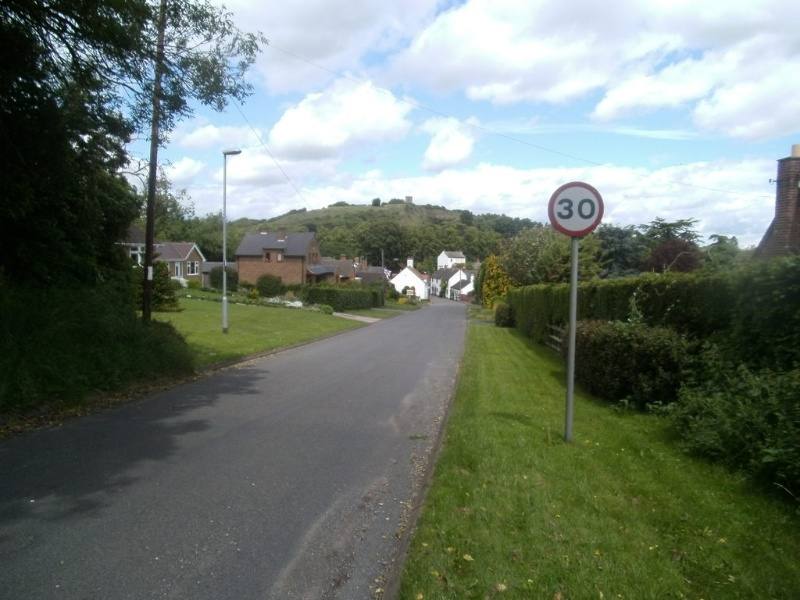speed_limit_30: (546, 181, 608, 239)
